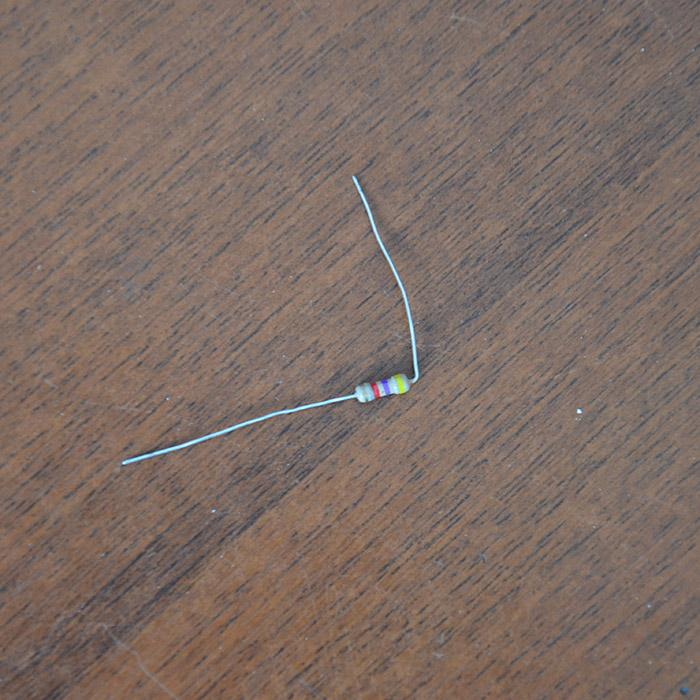resistor: (353, 371, 411, 402)
